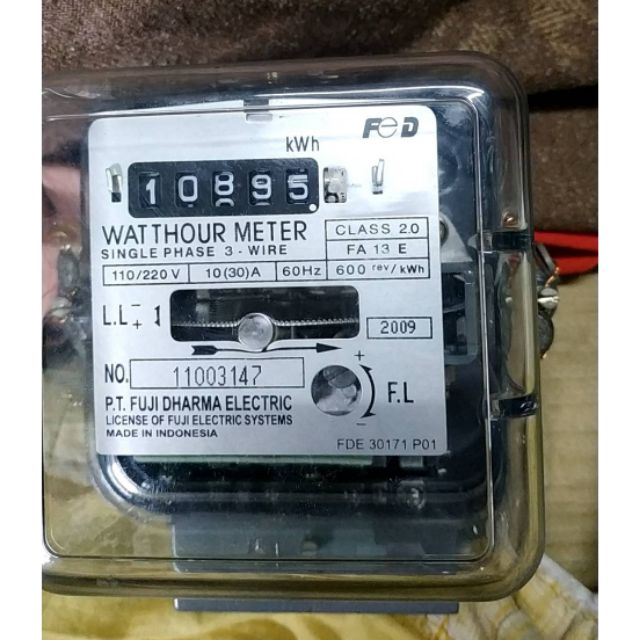show: (127, 159, 316, 214)
